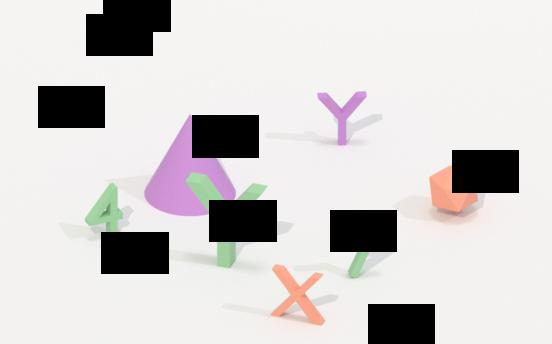4: (80, 177, 125, 242)
7: (340, 219, 387, 282)
Y-hoa: (185, 164, 267, 271), (314, 86, 371, 150)
dagiac: (429, 163, 480, 217)
non: (142, 110, 239, 217)
x: (267, 259, 329, 329)
